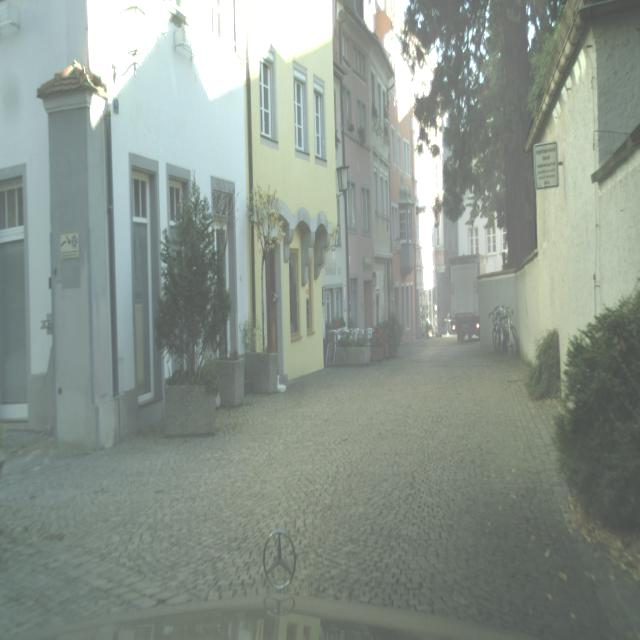bicycle: (448, 249, 485, 348)
car: (488, 303, 520, 359)
